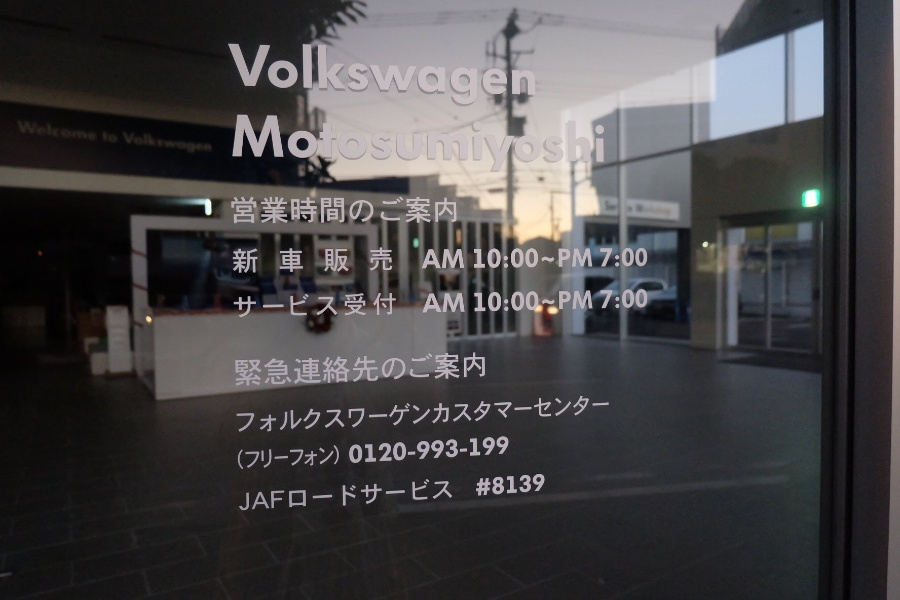text: (225, 31, 240, 115), (241, 31, 256, 115), (257, 31, 272, 115), (273, 31, 288, 115), (289, 31, 304, 115), (305, 31, 320, 115), (321, 31, 336, 115), (337, 31, 352, 115), (353, 31, 368, 115), (369, 31, 384, 115), (385, 31, 400, 115), (401, 31, 416, 115), (417, 31, 432, 115), (433, 31, 448, 115), (449, 31, 464, 115), (465, 31, 480, 115), (481, 31, 496, 115), (497, 31, 512, 115), (513, 31, 528, 115), (241, 110, 256, 183), (257, 110, 272, 183), (273, 110, 288, 183), (289, 110, 304, 183), (305, 110, 320, 183), (321, 110, 336, 183), (337, 110, 352, 183), (353, 110, 368, 183), (369, 110, 384, 183), (385, 110, 400, 183), (401, 110, 416, 183), (417, 110, 432, 183), (433, 110, 448, 183), (449, 110, 464, 183), (465, 110, 480, 183), (481, 110, 496, 183), (497, 110, 512, 183), (513, 110, 528, 183), (529, 110, 544, 183), (545, 110, 560, 183), (561, 110, 576, 183), (577, 110, 592, 183), (593, 110, 608, 183), (529, 31, 539, 115), (241, 395, 256, 443), (257, 395, 272, 443), (273, 395, 288, 443), (289, 395, 304, 443), (305, 395, 320, 443), (321, 395, 336, 443), (337, 395, 352, 443), (353, 395, 368, 443), (369, 395, 384, 443), (385, 395, 400, 443), (401, 395, 416, 443), (417, 395, 432, 443), (433, 395, 448, 443), (449, 395, 464, 443), (465, 395, 480, 443), (481, 395, 496, 443), (497, 395, 512, 443), (513, 395, 528, 443), (529, 395, 544, 443), (545, 395, 560, 443), (561, 395, 576, 443), (577, 395, 592, 443), (593, 395, 608, 443), (241, 352, 256, 390), (257, 352, 272, 390), (273, 352, 288, 390), (289, 352, 304, 390), (305, 352, 320, 390), (321, 352, 336, 390), (337, 352, 352, 390), (353, 352, 368, 390), (369, 352, 384, 390), (385, 352, 400, 390), (401, 352, 416, 390), (417, 352, 432, 390), (433, 352, 448, 390), (449, 352, 464, 390), (465, 352, 480, 390), (241, 479, 256, 517), (257, 479, 272, 517), (273, 479, 288, 517), (289, 479, 304, 517), (305, 479, 320, 517), (321, 479, 336, 517), (337, 479, 352, 517), (353, 479, 368, 517), (369, 479, 384, 517), (385, 479, 400, 517), (401, 479, 416, 517), (417, 479, 432, 517), (433, 479, 448, 517), (353, 433, 368, 470), (369, 433, 384, 470), (385, 433, 400, 470), (401, 433, 416, 470), (417, 433, 432, 470), (433, 433, 448, 470), (449, 433, 464, 470), (465, 433, 480, 470), (481, 433, 496, 470), (497, 433, 512, 470), (241, 195, 256, 230), (257, 195, 272, 230), (273, 195, 288, 230), (289, 195, 304, 230), (305, 195, 320, 230), (321, 195, 336, 230), (337, 195, 352, 230), (353, 195, 368, 230), (369, 195, 384, 230), (385, 195, 400, 230), (401, 195, 416, 230), (417, 195, 432, 230), (433, 195, 448, 230), (241, 244, 256, 278), (257, 244, 272, 278), (273, 244, 288, 278), (289, 244, 304, 278), (305, 244, 320, 278), (321, 244, 336, 278), (337, 244, 352, 278), (353, 244, 368, 278), (369, 244, 384, 278), (433, 286, 448, 319), (449, 286, 464, 319), (465, 286, 480, 319), (481, 286, 496, 319), (497, 286, 512, 319), (513, 286, 528, 319), (529, 286, 544, 319), (545, 286, 560, 319), (561, 286, 576, 319), (577, 286, 592, 319), (593, 286, 608, 319), (609, 286, 624, 319), (625, 286, 640, 319), (241, 445, 256, 478), (257, 445, 272, 478), (273, 445, 288, 478), (289, 445, 304, 478), (305, 445, 320, 478), (321, 445, 336, 478), (481, 469, 496, 502), (497, 469, 512, 502), (513, 469, 528, 502), (529, 469, 544, 502), (33, 120, 48, 153), (49, 120, 64, 153), (65, 120, 80, 153), (81, 120, 96, 153), (97, 120, 112, 153), (113, 120, 128, 153), (129, 120, 144, 153), (145, 120, 160, 153), (161, 120, 176, 153), (177, 120, 192, 153), (193, 120, 208, 153), (433, 243, 448, 275), (449, 243, 464, 275), (465, 243, 480, 275), (481, 243, 496, 275), (497, 243, 512, 275), (513, 243, 528, 275), (529, 243, 544, 275), (545, 243, 560, 275), (561, 243, 576, 275), (577, 243, 592, 275), (593, 243, 608, 275), (609, 243, 624, 275), (625, 243, 640, 275), (241, 290, 256, 322), (257, 290, 272, 322), (273, 290, 288, 322), (289, 290, 304, 322), (305, 290, 320, 322), (321, 290, 336, 322), (337, 290, 352, 322), (353, 290, 368, 322), (369, 290, 384, 322), (18, 120, 32, 153), (449, 195, 462, 230), (385, 290, 399, 322), (385, 244, 397, 278), (481, 352, 491, 390), (235, 110, 240, 183), (641, 286, 652, 319), (641, 243, 652, 275), (230, 195, 240, 230), (609, 395, 616, 443), (422, 286, 432, 319), (423, 243, 432, 275), (232, 244, 240, 278), (233, 352, 240, 390), (337, 445, 345, 478), (221, 31, 224, 115), (235, 395, 240, 443), (449, 479, 455, 517), (233, 290, 240, 322), (347, 433, 352, 470), (235, 445, 240, 478), (209, 120, 214, 153), (513, 433, 516, 470), (477, 469, 480, 502), (238, 479, 240, 517), (545, 469, 547, 502)
